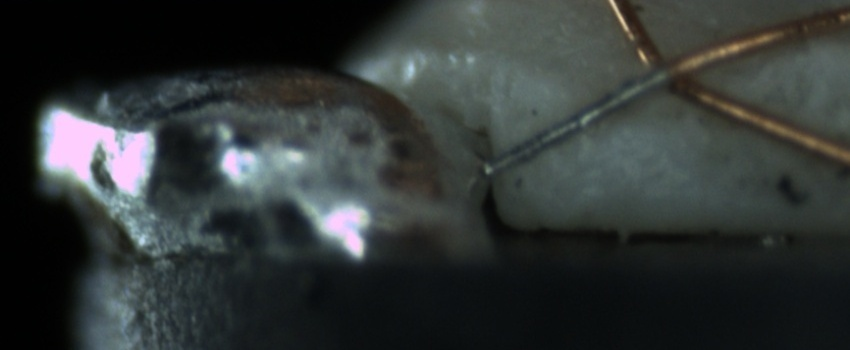CL: (627, 38, 719, 103)
TS: (479, 70, 661, 176)
